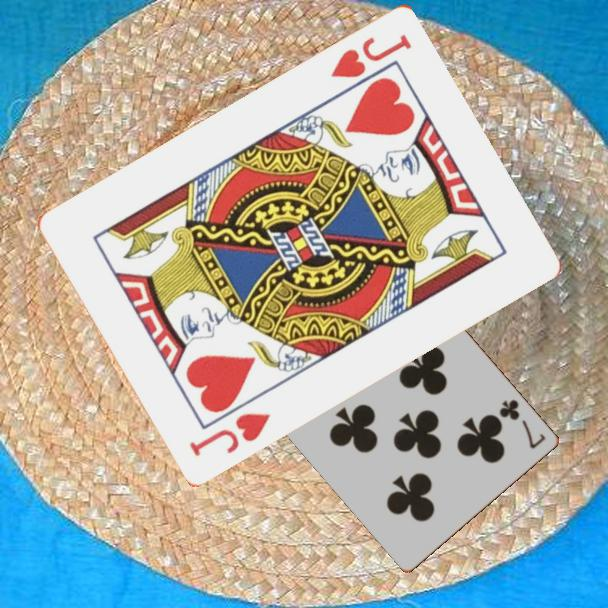c07: (496, 396, 549, 452)
h11: (327, 29, 415, 81), (185, 408, 274, 459)
